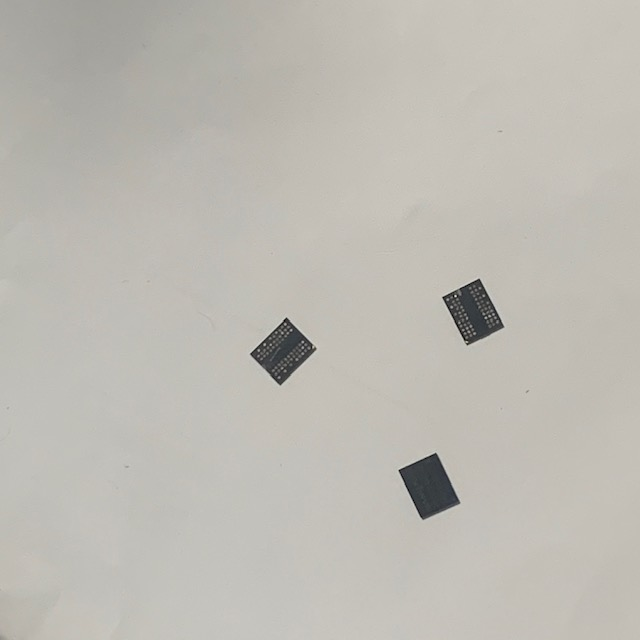IC: (247, 314, 321, 387), (394, 449, 464, 524), (438, 273, 508, 347)
